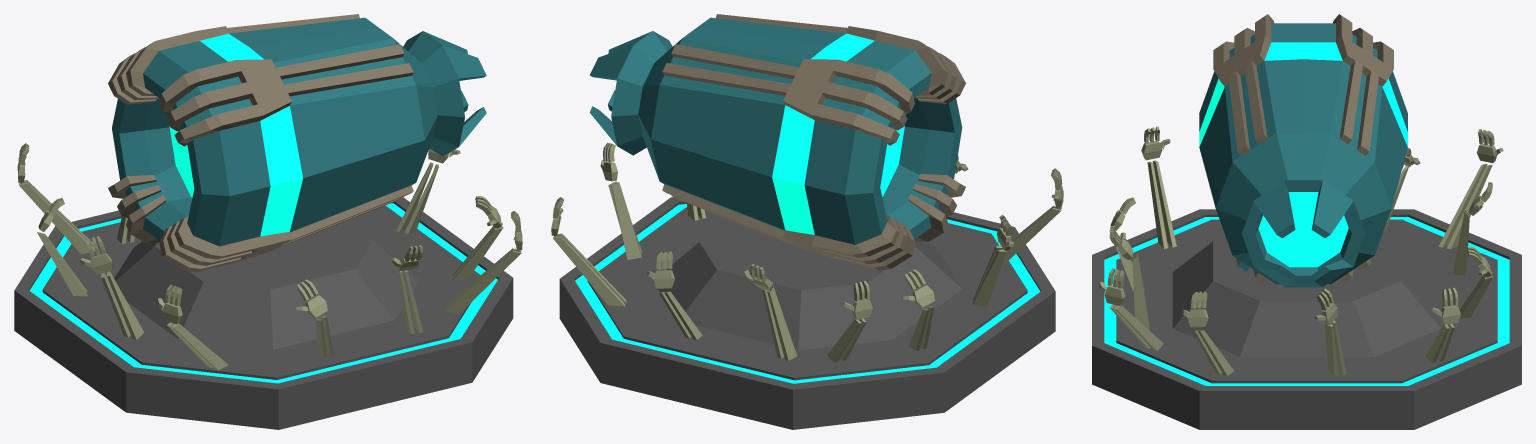
The model's file is Construction.fbx.
3 renders of one model, left to right at view 1: azimuth 30°, elevation 25°; view 2: azimuth 150°, elevation 25°; view 3: azimuth 270°, elevation 25°, orthographic. The views are drawn at different scales.
Visible parts, largest first — view 1: ConstructionBase, ConstructionCannon; view 2: ConstructionBase, ConstructionCannon; view 3: ConstructionBase, ConstructionCannon.
Boxes of the visible parts, x1,y1,x2,y2 form: ConstructionBase: (14, 143, 522, 429); ConstructionCannon: (108, 14, 486, 272); ConstructionBase: (551, 143, 1063, 429); ConstructionCannon: (589, 14, 965, 270); ConstructionBase: (1092, 126, 1521, 429); ConstructionCannon: (1199, 14, 1407, 287).
Size of the model in its own units: 102 by 70.74 by 98.
